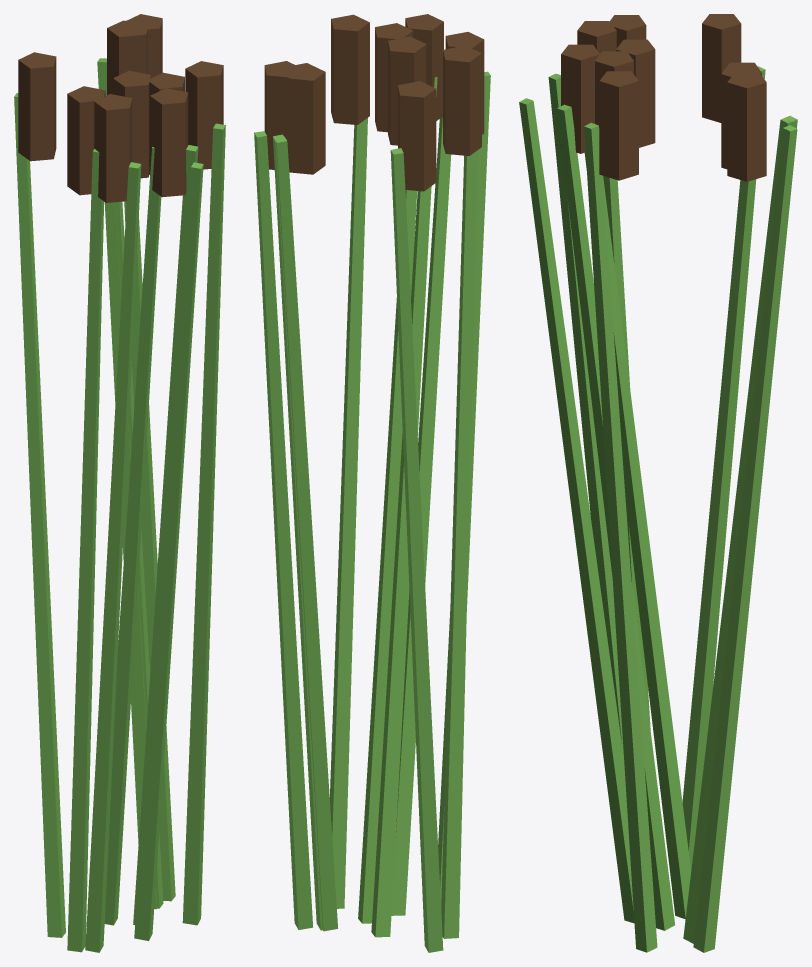
The model's file is reeds.glb.
3 renders of one model, left to right at view 1: azimuth 30°, elevation 25°; view 2: azimuth 150°, elevation 25°; view 3: azimuth 270°, elevation 25°, orthographic.
Parts seen in each view (by area): view 1: reeds; view 2: reeds; view 3: reeds.
Boxes of the visible parts, bbox=[...] form: reeds: bbox=[14, 14, 225, 952]; reeds: bbox=[254, 14, 490, 952]; reeds: bbox=[519, 14, 797, 952].
Bounding box in the file's own units: 0.4258 × 2.33 × 0.6748.
